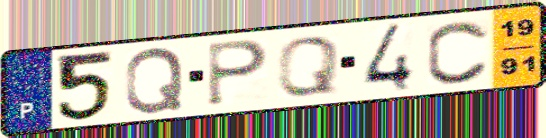4: (359, 21, 419, 94)
5: (52, 48, 119, 123)
C: (424, 18, 492, 86)
P: (204, 38, 272, 108)
Q: (123, 45, 187, 116), (274, 34, 342, 98)
